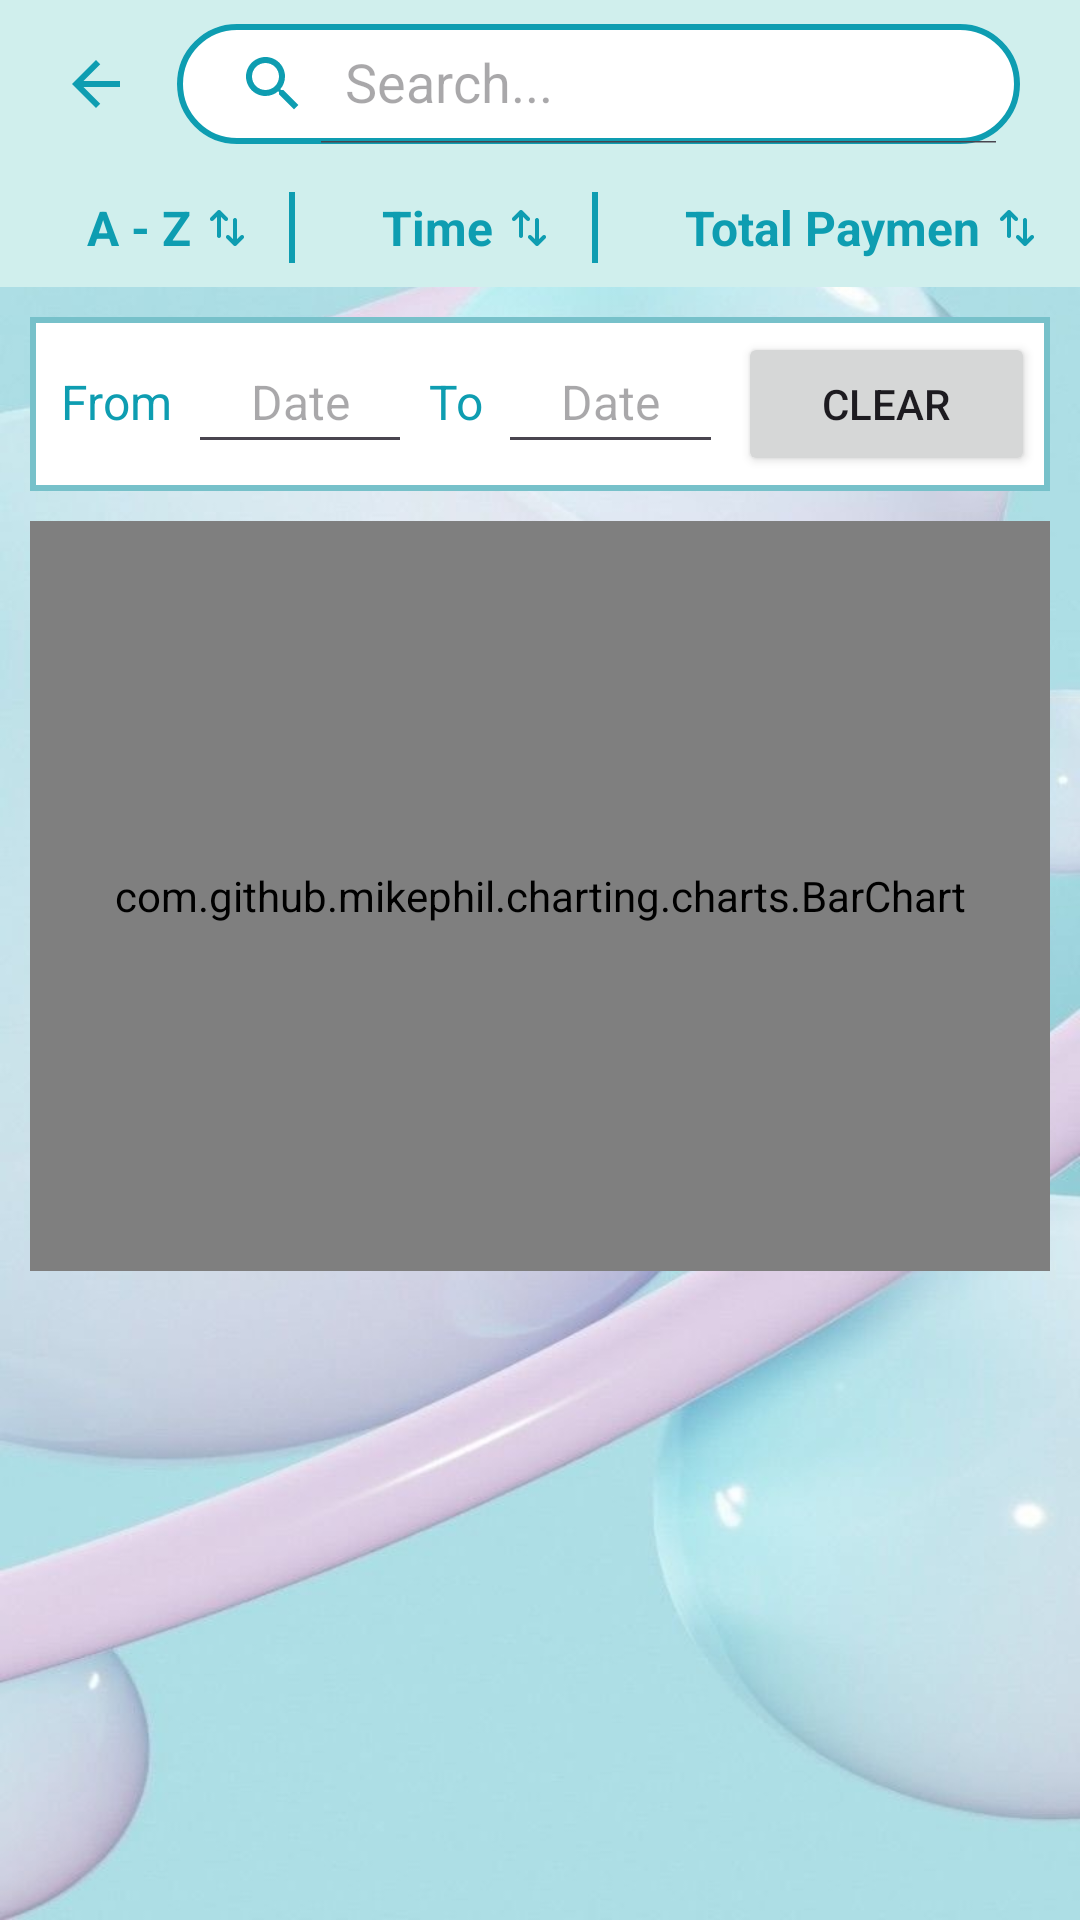

Screen size 1080px×1920px. Icon name, then its center in pixels as [x,y]:
arrow back: [96,84]
transfer: [227,228], [529,228], [1017,228]
